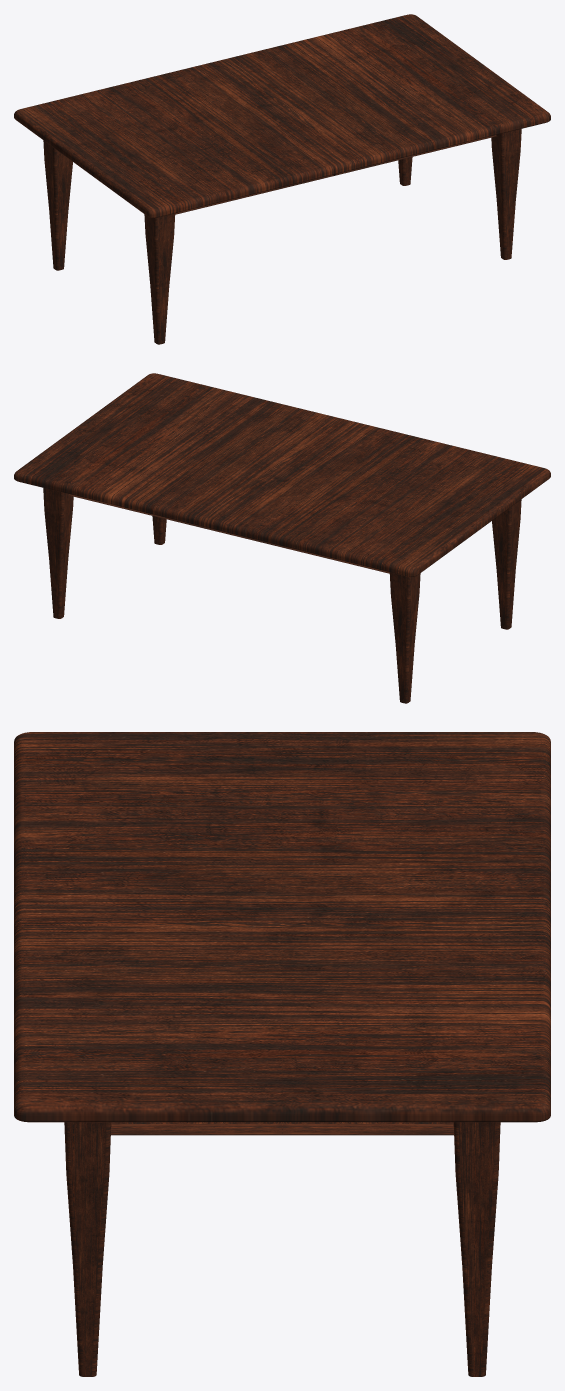
File: Table.fbx
3 views of the same model, one above another, from view 1: azimuth 30°, elevation 25°; view 2: azimuth 150°, elevation 25°; view 3: azimuth 270°, elevation 25° (orthographic). The views are drawn at different scales.
Parts seen in each view (by area): view 1: Table; view 2: Table; view 3: Table.
Part boxes in pixels (x1=…): Table: x1=14, y1=14, x2=550, y2=344; Table: x1=14, y1=373, x2=550, y2=703; Table: x1=14, y1=732, x2=550, y2=1376.
Bounding box in the file's own units: 200 × 72.08 × 120.
1 material, 1 textured.
